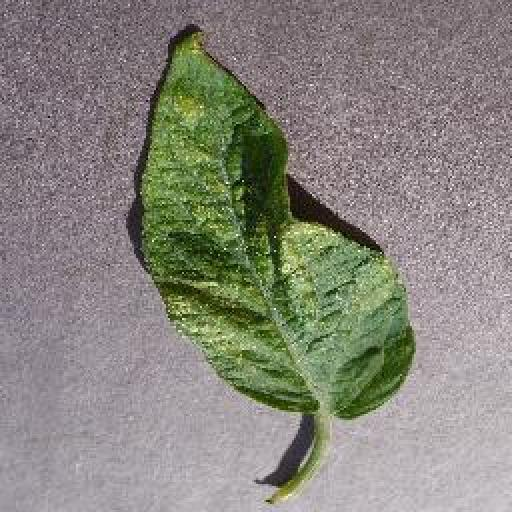disease_tomato: (137, 26, 415, 418)
